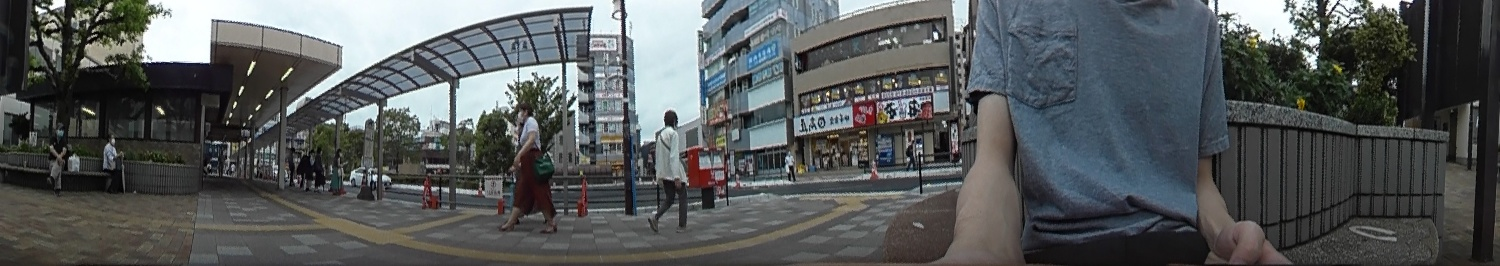difficult_person: (330, 148, 345, 196), (312, 146, 325, 189), (302, 148, 314, 188), (783, 149, 796, 180), (286, 147, 294, 187), (216, 149, 226, 178), (907, 140, 917, 168)
person: (511, 103, 551, 229), (654, 107, 687, 226), (46, 121, 69, 194), (100, 133, 121, 194)
